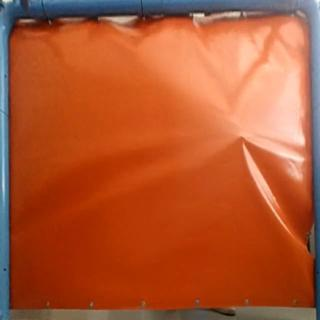Hit-hRxx: (236, 132, 248, 144)
